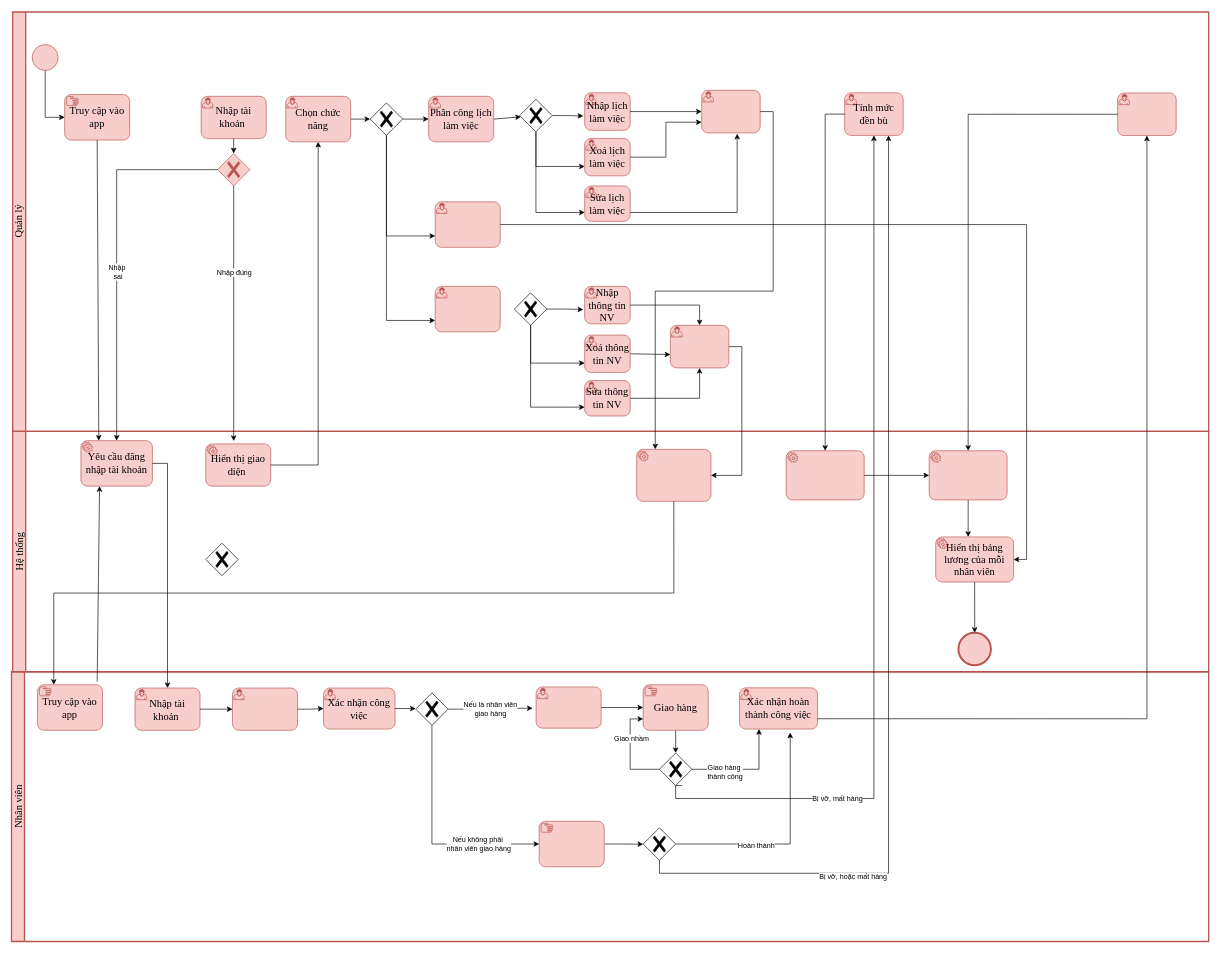
Image size: 1221x953. Some labels were removed from this diagram. The centre of each missing label's shape, as x and y in pixels:
"Lưu dữ liệu và thông báo có lịch làm việc cho nhân viên" belongs at [673,475].
"Lưu lịch làm việc" belongs at [730,111].
"Lưu thông tin nhân viên" belongs at [699,346].
"Nhận lịch làm việc" belongs at [265,708].
"Quản lý thông tin nhân viên" belongs at [467,309].
"Thực hiện công việc" belongs at [571,844].
"Trừ tiền" belongs at [825,475].
"Tính lương" belongs at [968,475].
"Tính lương, thưởng,phạt" belongs at [467,224].
"Xác nhận hoàn thành công việc của NV" belongs at [1146,114].
"Xác nhận địa điểm gia hàng" belongs at [568,707].
